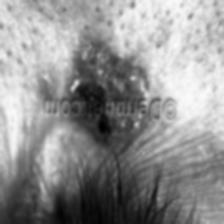Potentially Malignant Skin Tumors: (63, 59, 150, 97)
